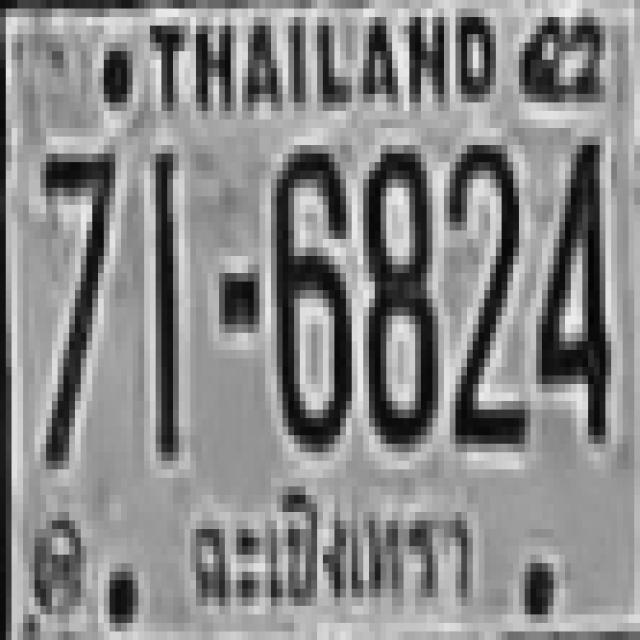1: (150, 145, 179, 435)
2: (447, 137, 522, 435), (444, 141, 519, 414), (450, 150, 519, 440)
4: (530, 128, 606, 435)
6: (271, 145, 346, 444)
7: (40, 145, 116, 452), (40, 145, 116, 384), (40, 149, 116, 346)
8: (363, 141, 432, 439)
Chachoengsao: (176, 470, 484, 634)
